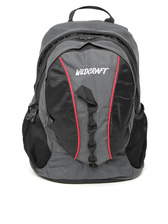bag: (16, 5, 146, 183)
